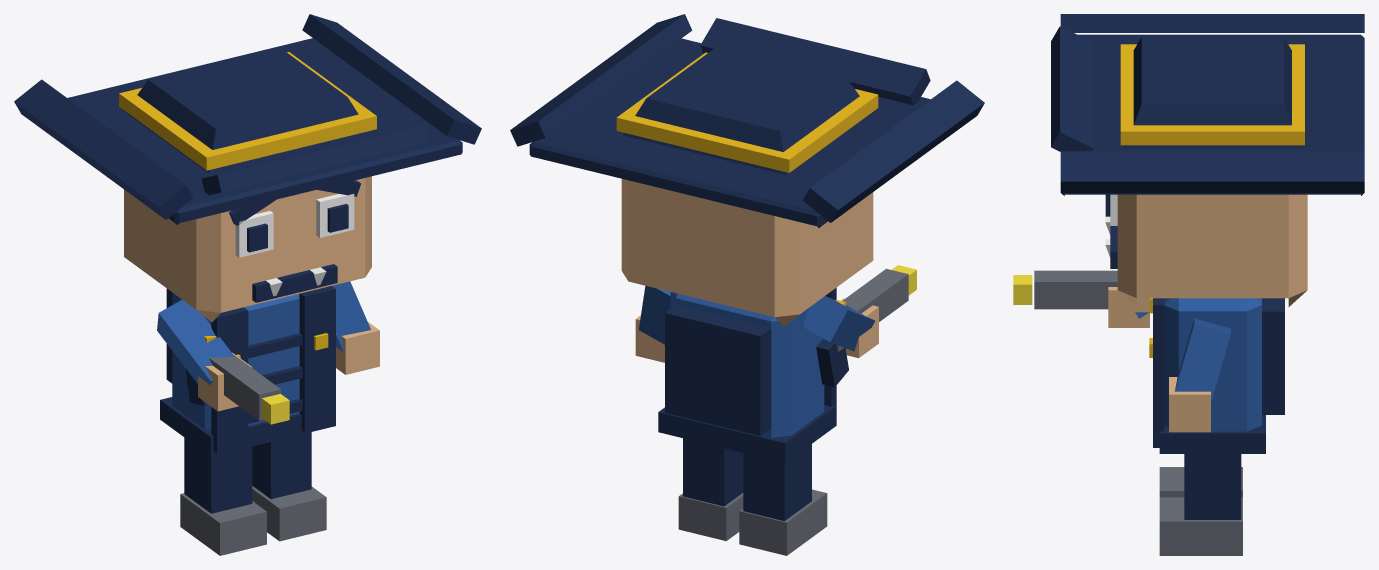
Rendered from gunner_r13.glb.
3 views of the same model, side by side, from view 1: azimuth 30°, elevation 25°; view 2: azimuth 150°, elevation 25°; view 3: azimuth 270°, elevation 25° (orthographic). The views are drawn at different scales.
Visible parts, largest first — view 1: gunner_r13_mesh; view 2: gunner_r13_mesh; view 3: gunner_r13_mesh.
Boxes of the visible parts, x1=… form: gunner_r13_mesh: x1=14, y1=14, x2=481, y2=555; gunner_r13_mesh: x1=510, y1=14, x2=984, y2=555; gunner_r13_mesh: x1=1013, y1=14, x2=1364, y2=555.
Size of the model in its own units: 1.24 by 1.6 by 1.11.
1 material, 1 textured.
